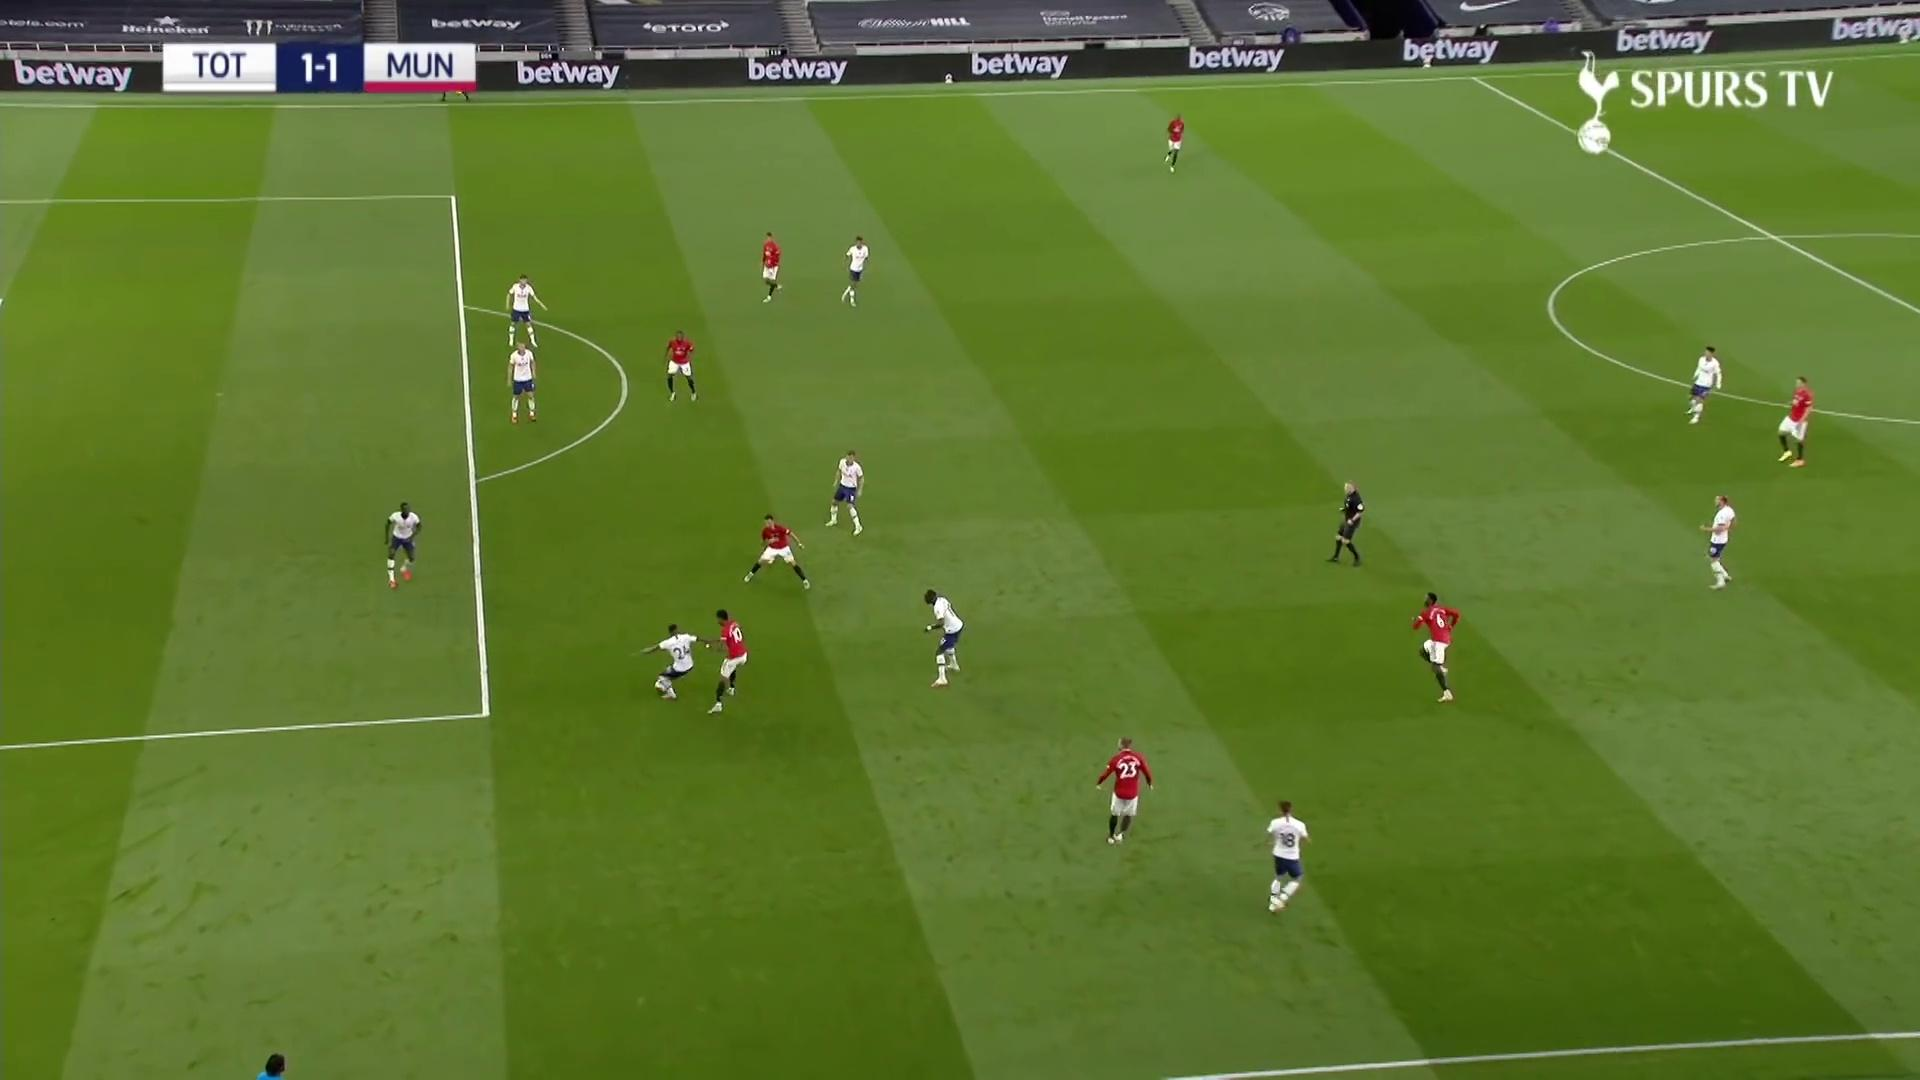ball: (655, 676, 670, 695)
